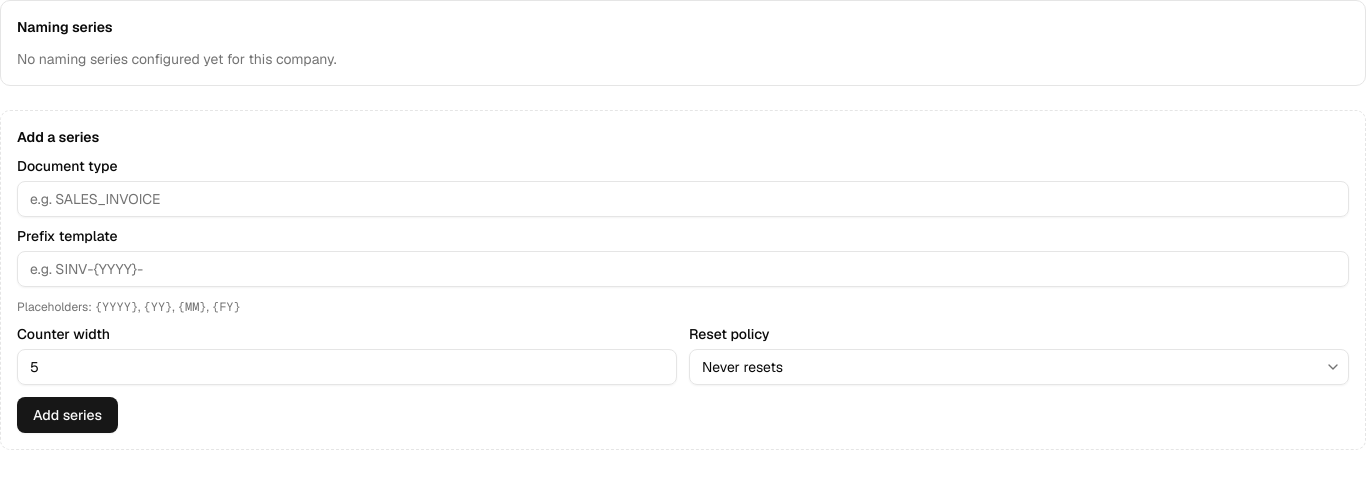
Test: NumberingSeriesPanel › shows a live preview of the next number as the template is edited
This screenshot has width=1366, height=499.
Type "SINV-" into the field labelled "Prefix template" at (683, 269), box x1=17 y1=251 x2=1349 y2=287
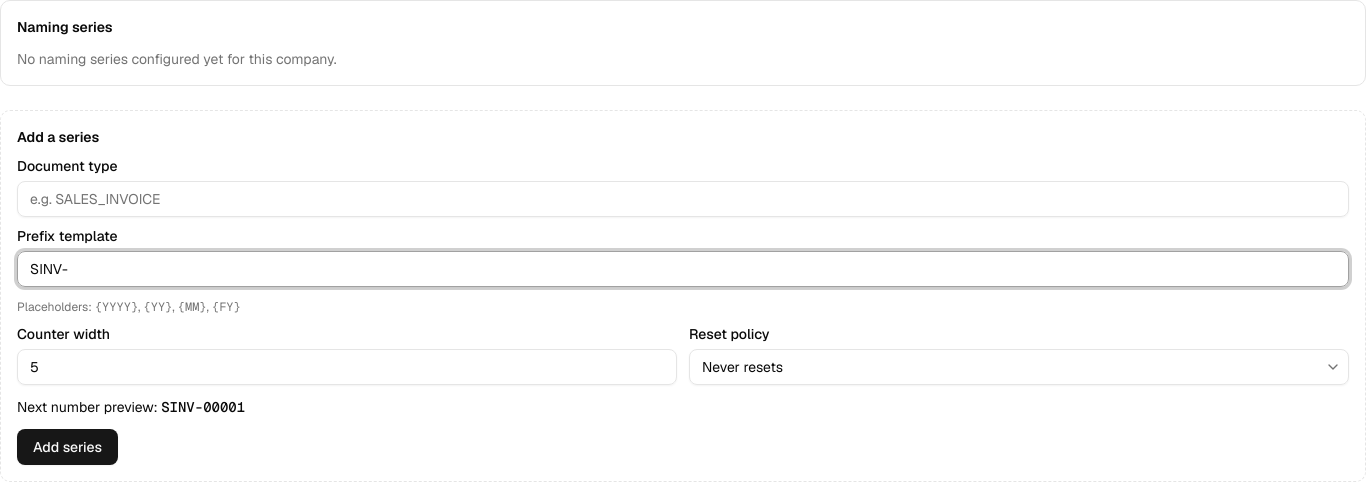
Check: the text "SINV-00001" is shown, box x1=161 y1=398 x2=245 y2=416
